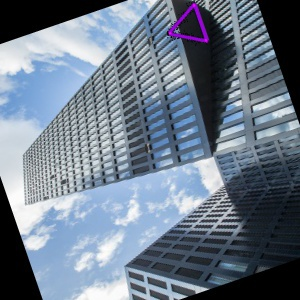triangle: (165, 1, 212, 46)
